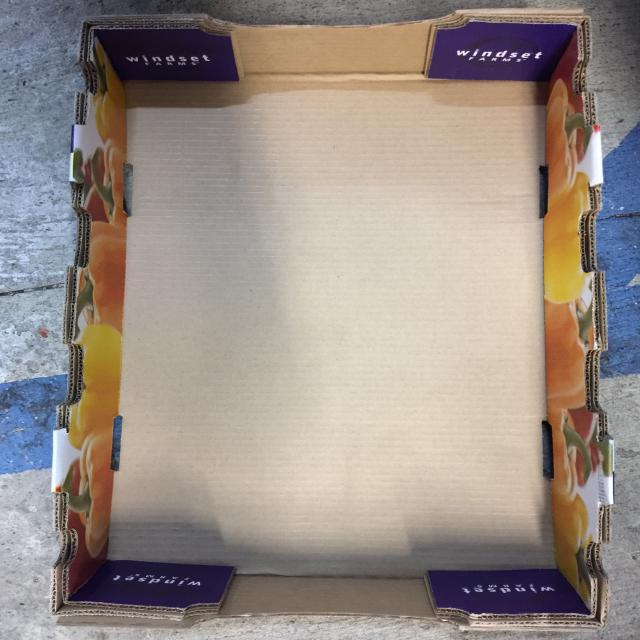cardboard: (51, 8, 613, 630)
